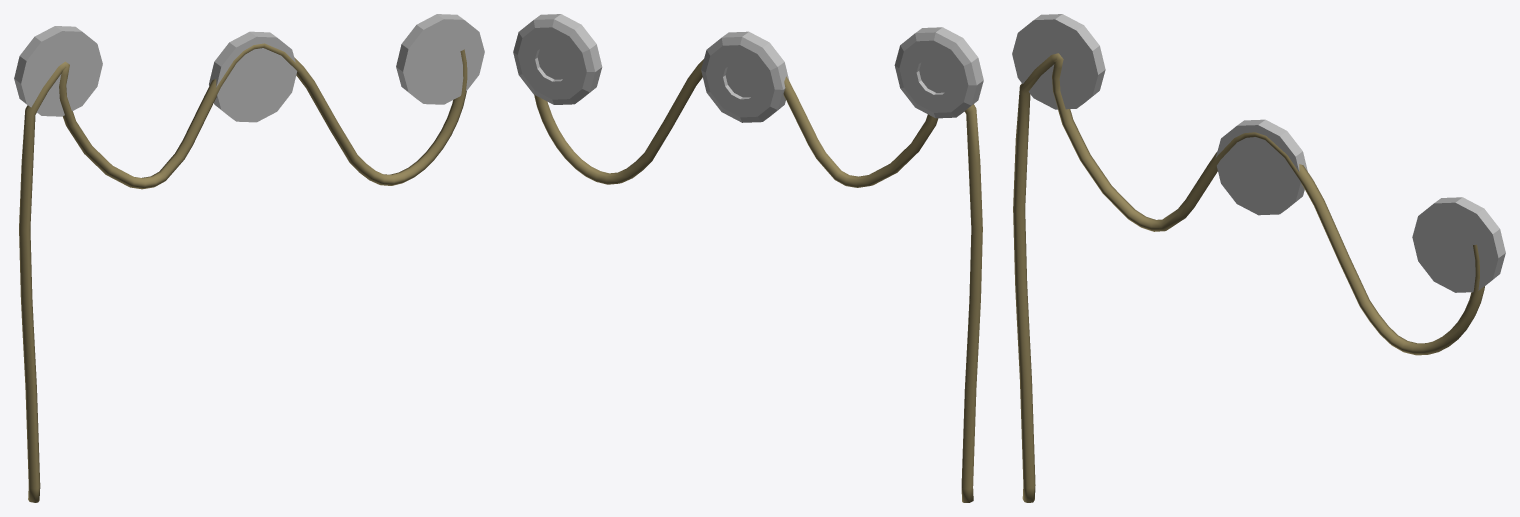
File: UtilityRope.fbx
3 views of the same model, side by side, from view 1: azimuth 30°, elevation 25°; view 2: azimuth 150°, elevation 25°; view 3: azimuth 330°, elevation 25° (orthographic). The views are drawn at different scales.
Parts seen in each view (by area): view 1: Rope_LOD0; view 2: Rope_LOD0; view 3: Rope_LOD0.
Boxes of the visible parts, left/top/right/bottom form: Rope_LOD0: left=14, top=14, right=484, bottom=502; Rope_LOD0: left=513, top=14, right=983, bottom=502; Rope_LOD0: left=1012, top=14, right=1505, bottom=502.
Size of what is drawn, in the model's own units: 57.82 by 55.48 by 2.22.
